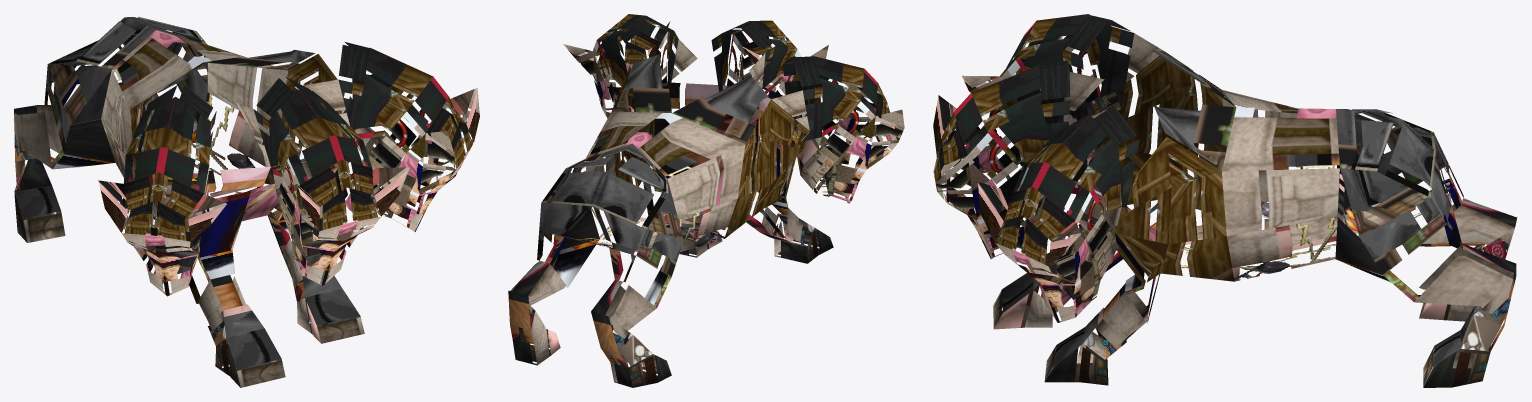
The picture shows the model from 3 angles, left to right: view 1: azimuth 30°, elevation 25°; view 2: azimuth 150°, elevation 25°; view 3: azimuth 270°, elevation 25°; orthographic projection. The views are drawn at different scales.
Visible parts, largest first — view 1: T1L4M005_1; view 2: T1L4M005_1; view 3: T1L4M005_1.
Part boxes in pixels (bbox=[...]): T1L4M005_1: bbox=[14, 16, 479, 387]; T1L4M005_1: bbox=[508, 14, 904, 387]; T1L4M005_1: bbox=[933, 14, 1517, 387].
Bounding box in the file's own units: 6.15 × 4.06 × 7.49.
